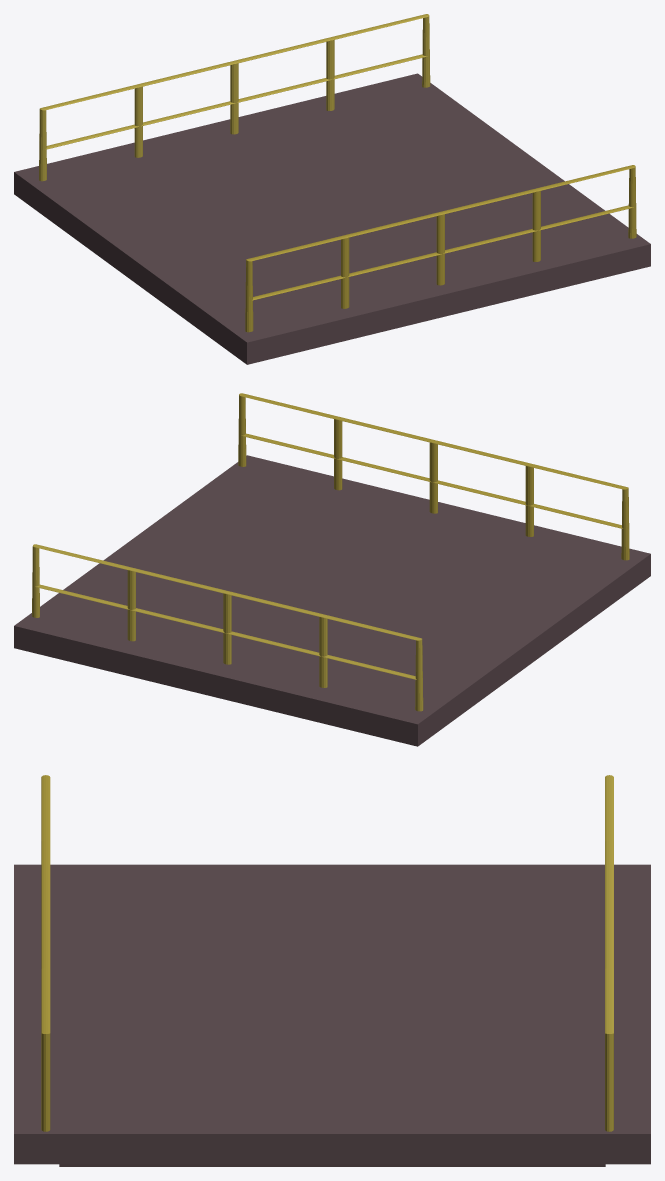
The model's file is plataformacolorA.fbx.
The picture shows the model from 3 angles, top to bottom: view 1: azimuth 30°, elevation 25°; view 2: azimuth 150°, elevation 25°; view 3: azimuth 270°, elevation 25°; orthographic projection. The views are drawn at different scales.
Visible parts, largest first — view 1: Cube.002, Plane.002, Plane.001; view 2: Cube.002, Plane.001, Plane.002; view 3: Cube.002, Plane.001, Plane.002, Cube.003.
Part boxes in pixels (<box>): Cube.002: <box>14,73,650,364</box>; Plane.002: <box>39,14,430,181</box>; Plane.001: <box>245,165,636,332</box>; Cube.002: <box>14,455,650,746</box>; Plane.001: <box>238,393,629,560</box>; Plane.002: <box>32,544,423,711</box>; Cube.002: <box>14,864,650,1164</box>; Plane.001: <box>41,775,50,1131</box>; Plane.002: <box>605,775,613,1131</box>; Cube.003: <box>59,1164,605,1166</box>.
Size of the model in its own units: 3294 by 853 by 3294.
